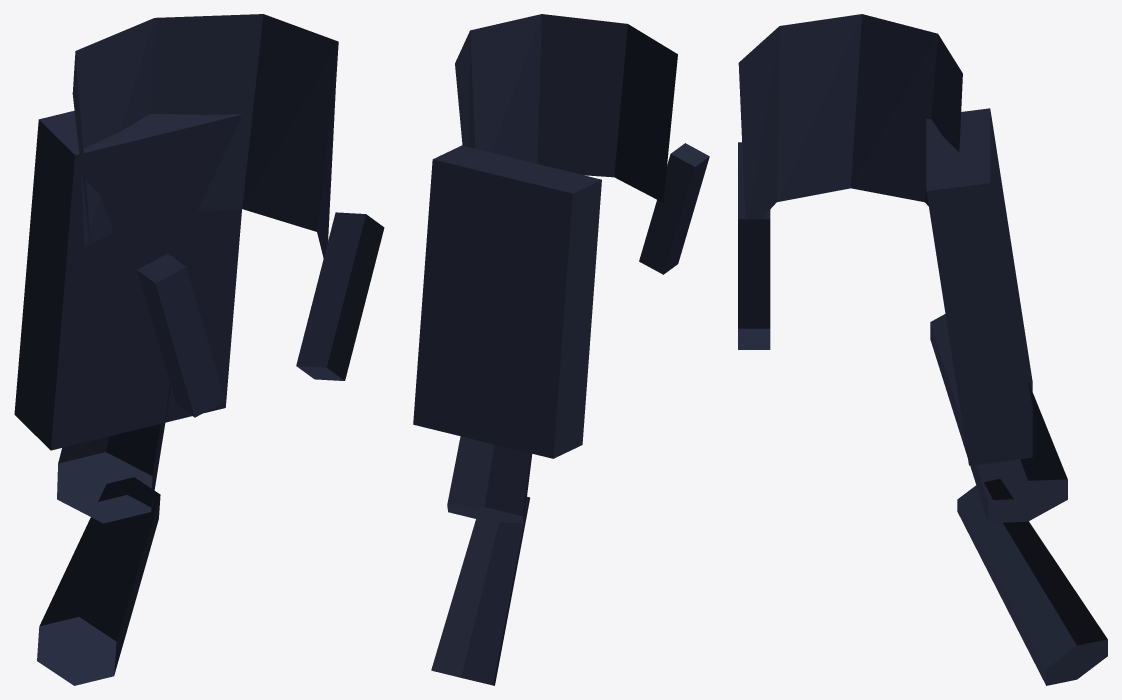
File: IreliaSimpleV2_Hair.obj
3 renders of one model, left to right at view 1: azimuth 30°, elevation 25°; view 2: azimuth 150°, elevation 25°; view 3: azimuth 270°, elevation 25°, orthographic. The views are drawn at different scales.
Visible parts, largest first — view 1: IreliaSimpleV2_Hair; view 2: IreliaSimpleV2_Hair; view 3: IreliaSimpleV2_Hair.
Boxes of the visible parts, x1,y1,x2,y2 form: IreliaSimpleV2_Hair: [14, 14, 384, 685]; IreliaSimpleV2_Hair: [413, 14, 709, 685]; IreliaSimpleV2_Hair: [738, 14, 1107, 685].
Bounding box in the file's own units: 0.3184 × 0.8351 × 0.4593.
